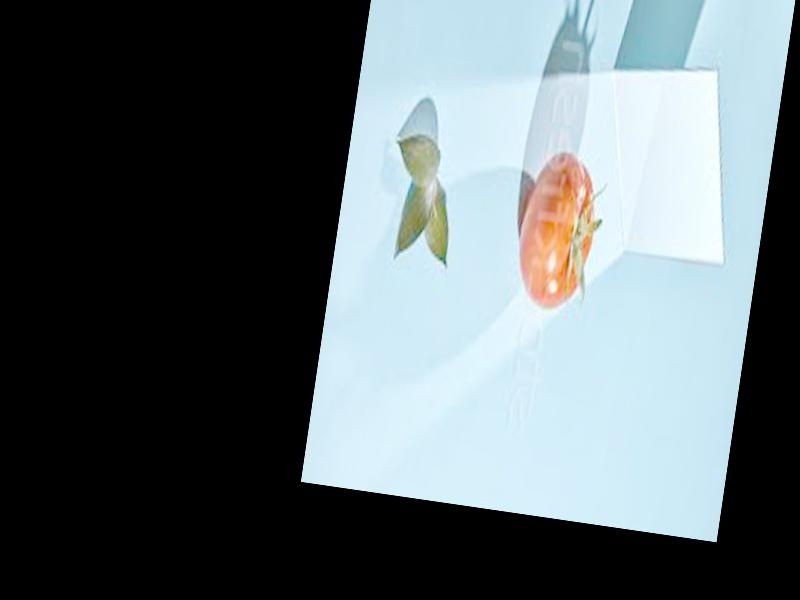Tomato: (509, 147, 605, 318)
